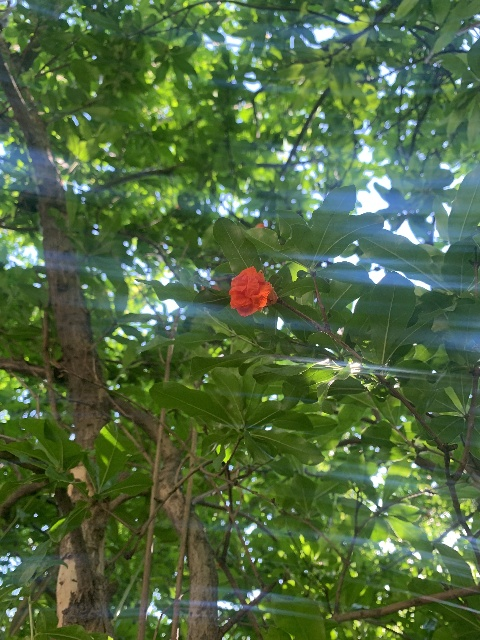flower: (228, 266, 277, 316)
